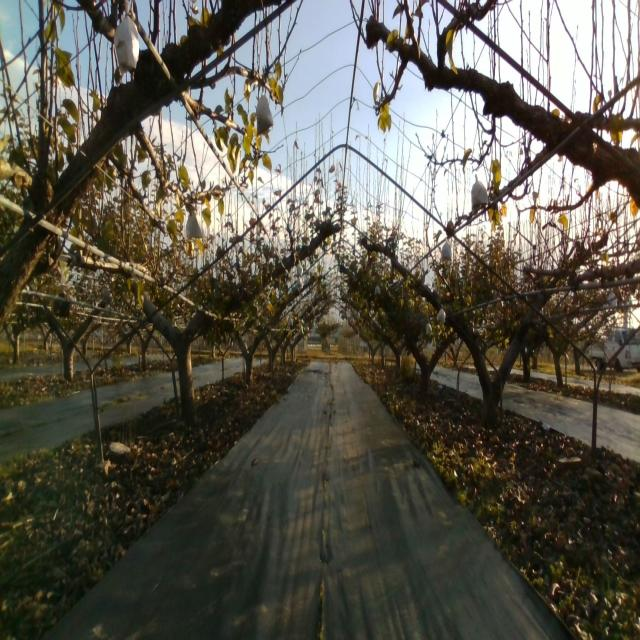pearbags: (114, 1, 140, 74), (256, 94, 274, 134), (472, 175, 489, 214), (185, 208, 205, 239), (440, 238, 452, 262)
